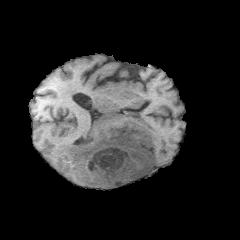glioma: (57, 122, 155, 187)
